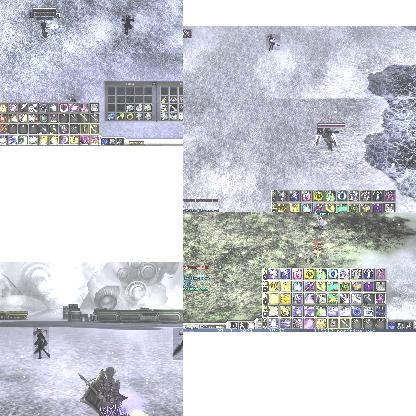caliana: (33, 327, 49, 359), (172, 328, 183, 360), (266, 34, 280, 50), (122, 15, 134, 33)
